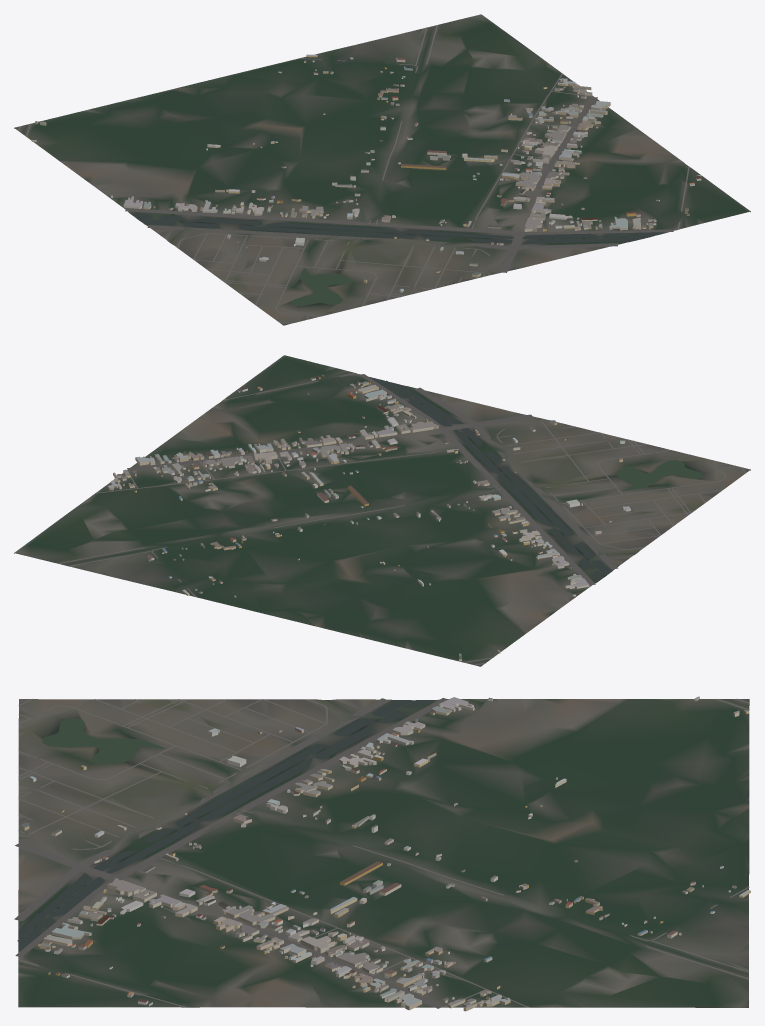
3 renders of one model, top to bottom at view 1: azimuth 30°, elevation 25°; view 2: azimuth 150°, elevation 25°; view 3: azimuth 270°, elevation 25°, orthographic. The views are drawn at different scales.
Parts seen in each view (by area): view 1: ground, buildings, roads, water; view 2: ground, buildings, roads, water; view 3: ground, buildings, roads, water.
Boxes of the visible parts, left/top/right/bottom form: ground: left=14, top=14, right=750, bottom=325; buildings: left=31, top=54, right=701, bottom=292; roads: left=18, top=25, right=689, bottom=323; water: left=131, top=214, right=665, bottom=306; ground: left=14, top=355, right=750, bottom=666; buildings: left=107, top=374, right=630, bottom=661; roads: left=58, top=373, right=745, bottom=665; water: left=369, top=377, right=702, bottom=581; ground: left=18, top=699, right=749, bottom=1007; buildings: left=21, top=696, right=750, bottom=1011; roads: left=14, top=698, right=749, bottom=1008; water: left=17, top=700, right=432, bottom=951.
Size of the model in its own units: 1422 by 17.1 by 1413.
